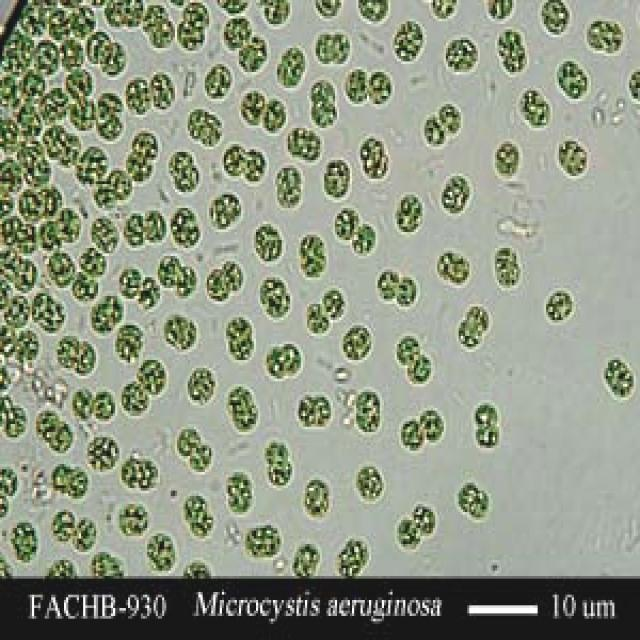Blue Green Algae: (390, 18, 431, 66), (599, 357, 636, 400), (516, 85, 553, 128), (554, 136, 588, 181), (249, 224, 286, 264), (30, 35, 62, 80), (446, 35, 480, 77), (186, 363, 220, 405), (439, 173, 472, 216), (554, 62, 588, 102), (358, 144, 392, 184), (10, 520, 40, 565), (136, 355, 166, 400), (303, 477, 333, 520), (239, 144, 269, 187), (88, 432, 120, 472), (122, 378, 154, 418), (436, 248, 470, 285), (397, 189, 424, 235), (202, 64, 235, 101), (492, 142, 522, 182), (344, 322, 374, 362), (322, 160, 352, 200), (145, 534, 175, 574), (115, 322, 145, 362), (237, 35, 269, 72), (71, 512, 98, 555), (71, 336, 98, 379), (199, 107, 226, 149), (262, 285, 294, 320), (275, 176, 305, 213), (239, 88, 269, 125), (177, 16, 207, 53), (47, 251, 77, 288), (94, 104, 124, 141), (118, 502, 152, 534), (77, 243, 109, 277), (367, 69, 395, 107), (350, 221, 380, 256), (222, 13, 252, 48), (126, 75, 151, 117), (17, 189, 47, 224), (90, 176, 120, 211), (418, 402, 444, 442), (356, 464, 382, 504), (322, 286, 348, 326), (162, 312, 190, 349), (68, 384, 96, 421), (147, 16, 175, 53), (333, 205, 360, 243), (540, 2, 572, 34), (132, 130, 164, 162), (68, 272, 100, 304), (226, 483, 256, 517), (226, 331, 256, 365), (56, 206, 81, 246), (205, 267, 232, 304), (58, 32, 85, 69), (39, 120, 66, 157), (405, 352, 433, 387), (175, 160, 203, 195), (49, 509, 77, 544), (64, 464, 92, 499), (53, 333, 81, 368), (100, 40, 128, 75), (143, 203, 166, 245), (437, 99, 463, 136), (192, 504, 218, 541), (4, 403, 30, 440), (542, 290, 572, 322), (49, 419, 77, 453), (154, 253, 181, 288), (224, 384, 256, 413), (344, 67, 369, 104), (395, 272, 420, 309), (132, 458, 160, 491), (309, 392, 335, 427), (275, 53, 301, 88), (301, 245, 328, 278), (422, 112, 446, 149), (262, 99, 286, 136), (117, 264, 141, 301), (260, 3, 294, 29), (177, 3, 211, 29), (68, 99, 94, 133), (100, 290, 122, 330), (399, 16, 424, 51), (412, 501, 435, 539), (224, 315, 254, 344), (64, 67, 94, 96), (395, 334, 422, 366), (126, 150, 153, 182), (602, 19, 625, 56), (122, 208, 145, 245), (13, 256, 36, 293), (395, 515, 420, 549), (365, 147, 390, 181), (258, 520, 282, 555), (222, 142, 243, 182), (177, 426, 203, 458), (264, 344, 286, 381), (19, 328, 41, 365), (295, 541, 322, 571), (305, 309, 335, 336), (94, 389, 117, 424), (312, 96, 337, 128), (493, 240, 520, 269), (282, 339, 303, 376), (328, 29, 350, 64), (501, 45, 529, 72), (356, 389, 384, 416), (269, 453, 294, 483), (401, 416, 422, 451), (335, 547, 360, 576), (497, 30, 527, 54), (209, 195, 230, 229), (584, 22, 606, 54), (190, 443, 213, 472), (467, 304, 491, 331), (314, 29, 332, 64), (474, 402, 499, 427), (457, 317, 480, 344), (474, 424, 499, 448), (456, 480, 474, 512), (378, 269, 394, 304), (469, 491, 488, 520), (286, 126, 303, 158), (296, 397, 314, 427)
